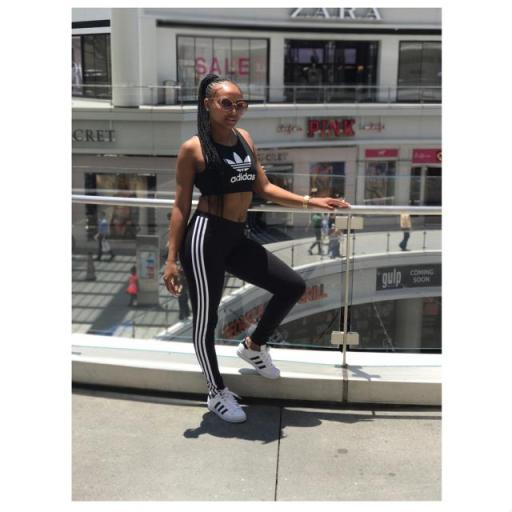Adidas: (224, 148, 258, 185)
